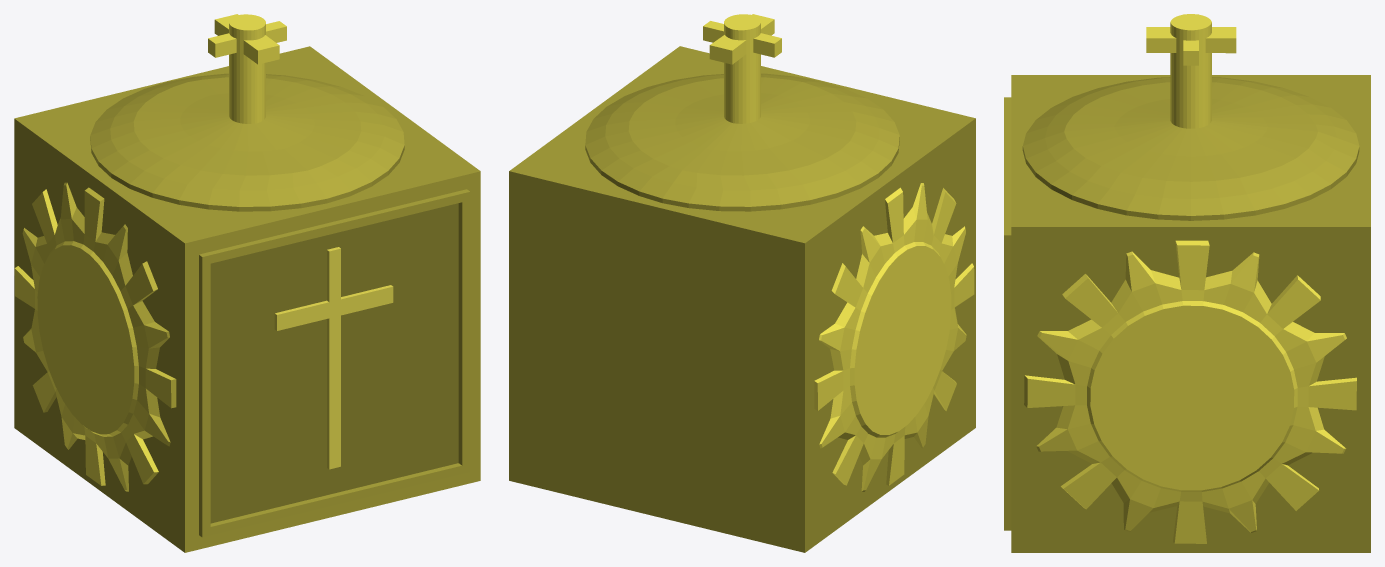
The model's file is model_tabernakulum.fbx.
3 renders of one model, left to right at view 1: azimuth 30°, elevation 25°; view 2: azimuth 150°, elevation 25°; view 3: azimuth 270°, elevation 25°, orthographic. The views are drawn at different scales.
Parts seen in each view (by area): view 1: Tabernakulum; view 2: Tabernakulum; view 3: Tabernakulum.
Part boxes in pixels (x1,y1,x2,y2): Tabernakulum: (14, 14, 480, 552); Tabernakulum: (509, 14, 975, 552); Tabernakulum: (1004, 14, 1370, 552).
Size of the model in its own units: 47.94 by 65.57 by 51.17.
